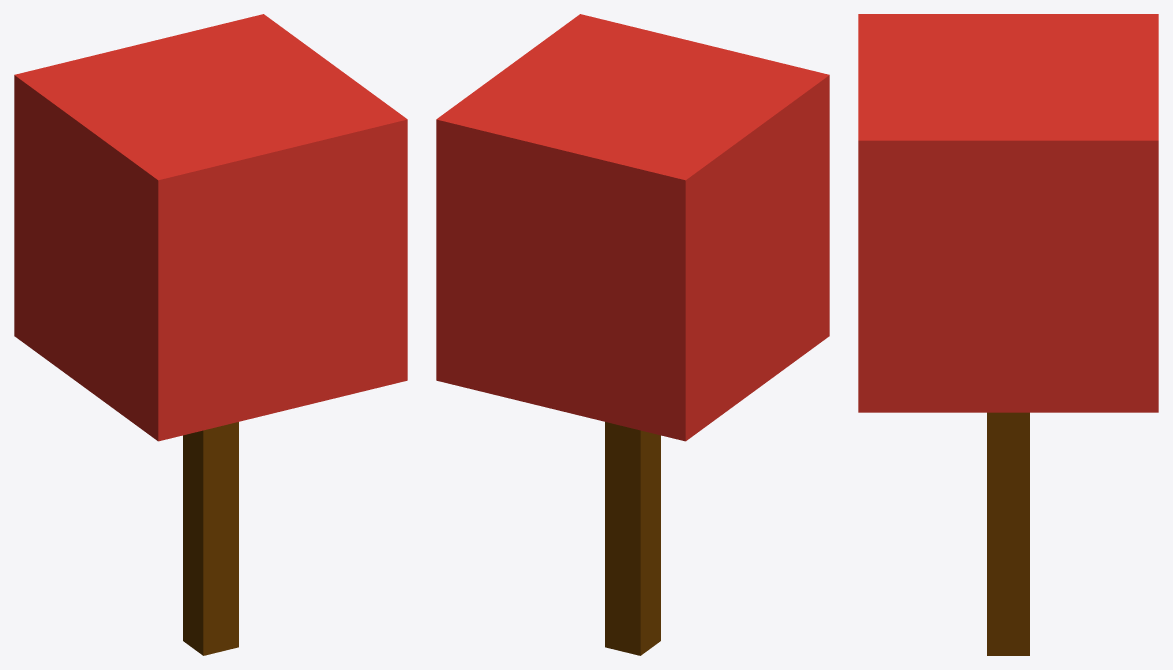
The model's file is tree4.fbx.
The picture shows the model from 3 angles, left to right: view 1: azimuth 30°, elevation 25°; view 2: azimuth 150°, elevation 25°; view 3: azimuth 270°, elevation 25°; orthographic projection. The views are drawn at different scales.
Visible parts, largest first — view 1: tree.003; view 2: tree.003; view 3: tree.003.
Part boxes in pixels (x1,y1,x2,y2): tree.003: (14,14,407,655); tree.003: (436,14,829,655); tree.003: (858,14,1158,655).
Bounding box in the file's own units: 700 × 1466 × 700.
